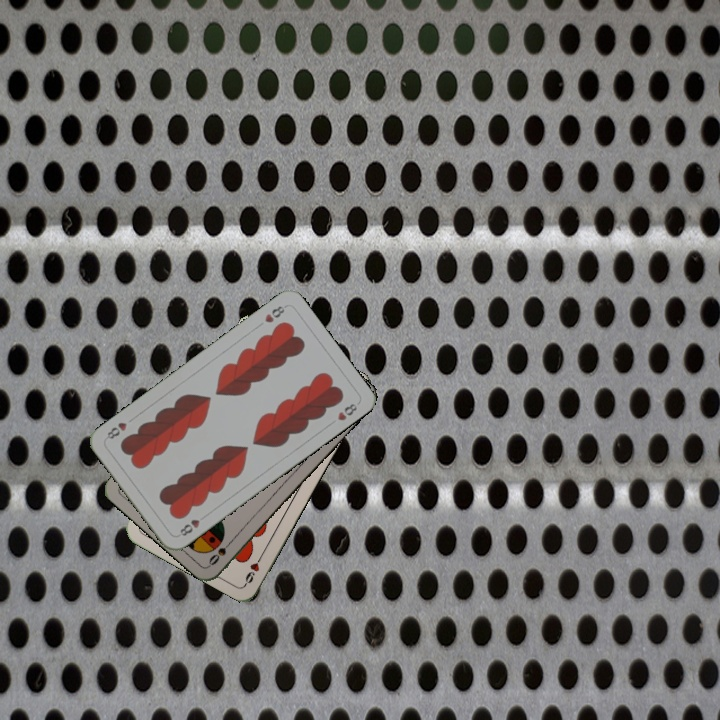H8: (260, 301, 289, 325), (176, 515, 202, 539)
H9: (241, 550, 266, 587)
SO: (205, 535, 236, 568)
